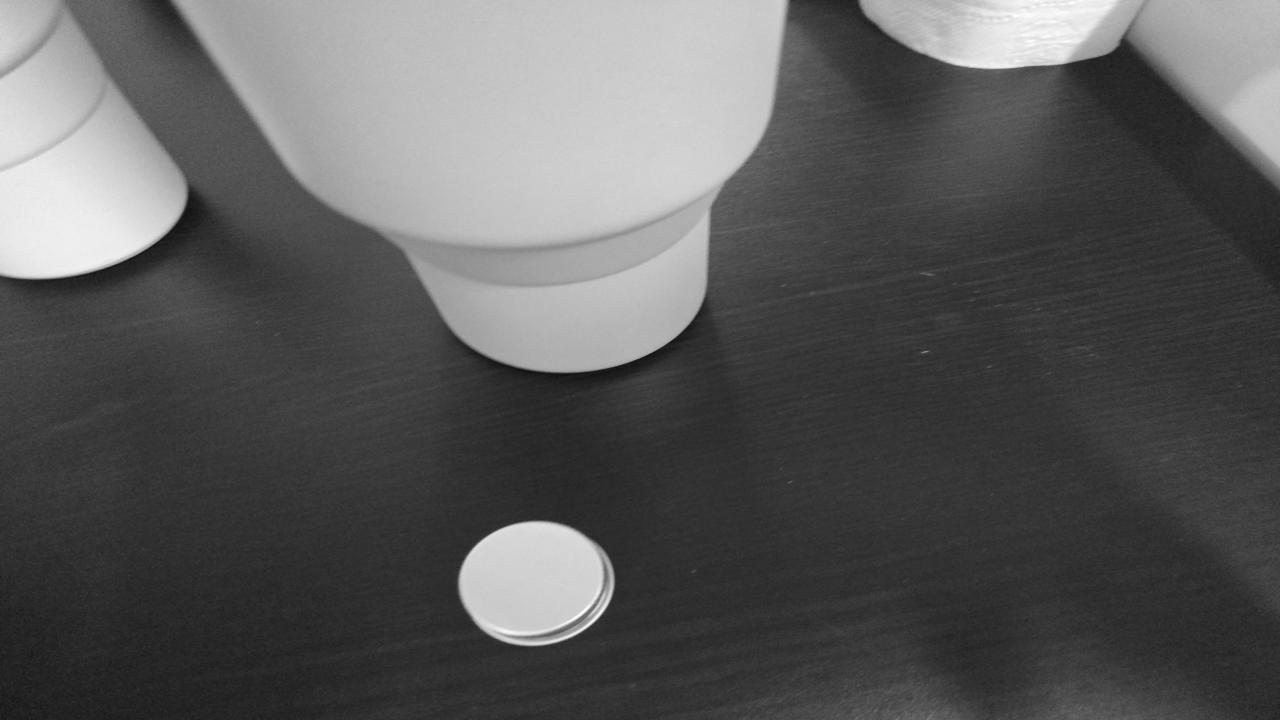bottle_cap: (462, 524, 620, 644)
